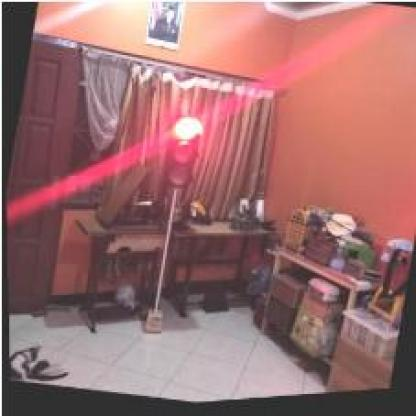red: (161, 113, 202, 190)
